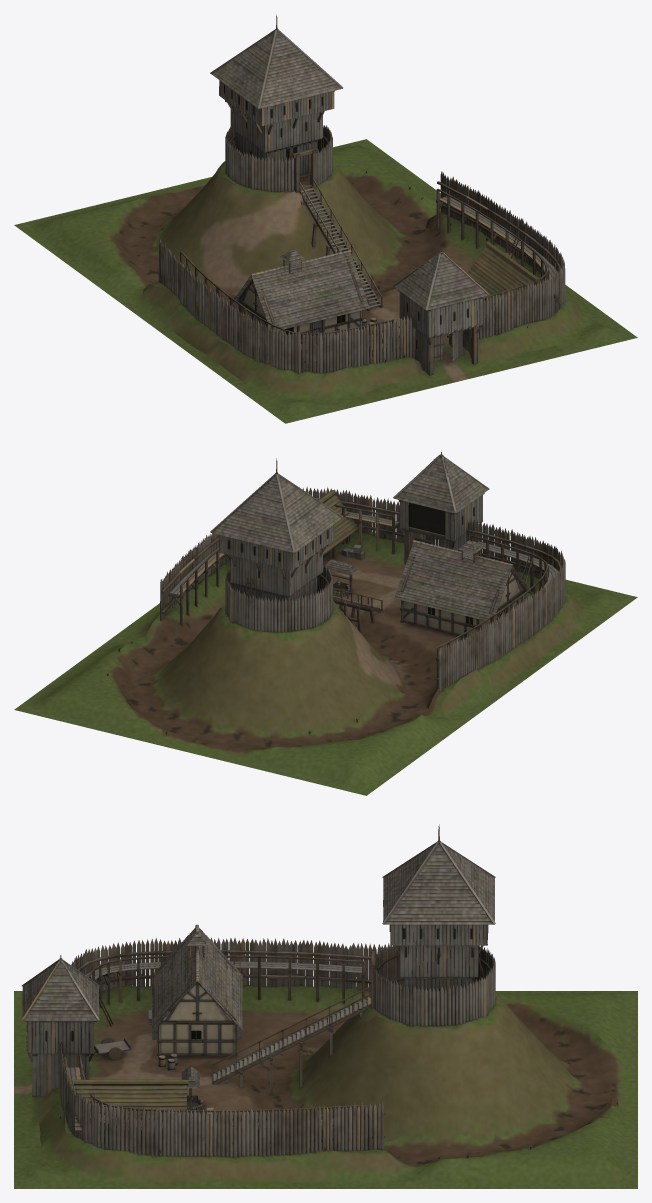
Rendered from motte.glb.
3 renders of one model, top to bottom at view 1: azimuth 30°, elevation 25°; view 2: azimuth 150°, elevation 25°; view 3: azimuth 270°, elevation 25°, orthographic. The views are drawn at different scales.
Visible parts, largest first — view 1: motte_LOD0; view 2: motte_LOD0; view 3: motte_LOD0.
Part boxes in pixels (x1=…): motte_LOD0: x1=14, y1=14, x2=637, y2=423; motte_LOD0: x1=14, y1=452, x2=637, y2=795; motte_LOD0: x1=14, y1=824, x2=637, y2=1188.
Size of what is drawn, in the model's own units: 36 by 22.56 by 48.
1 material, 1 textured.
